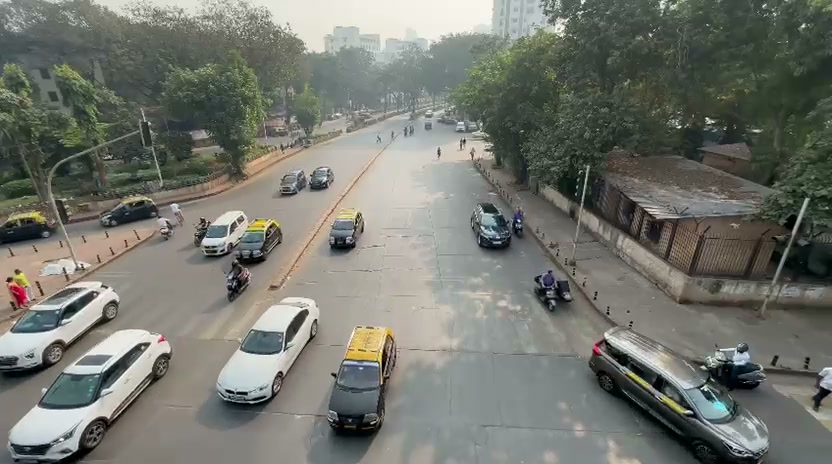car: (587, 323, 770, 462), (7, 326, 173, 461), (215, 296, 321, 406), (0, 281, 121, 375), (325, 324, 398, 435), (701, 346, 766, 390), (201, 210, 249, 258), (235, 218, 283, 263), (99, 198, 159, 227), (328, 207, 364, 249), (476, 207, 512, 249), (0, 221, 53, 243), (534, 273, 574, 302), (39, 257, 91, 278), (811, 367, 832, 409), (278, 170, 307, 196), (308, 167, 334, 190)
motorcycle: (225, 264, 251, 302)
pedestrian: (6, 269, 31, 310), (811, 366, 832, 410)
truck: (473, 202, 512, 249)
